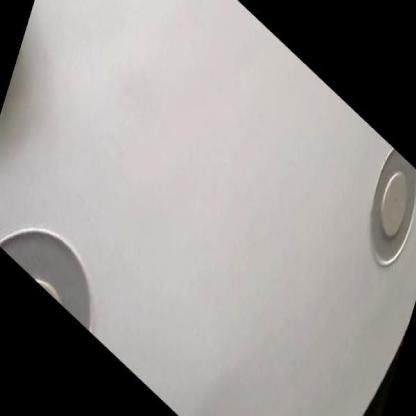light_off: (0, 150, 125, 340), (344, 133, 416, 295)
